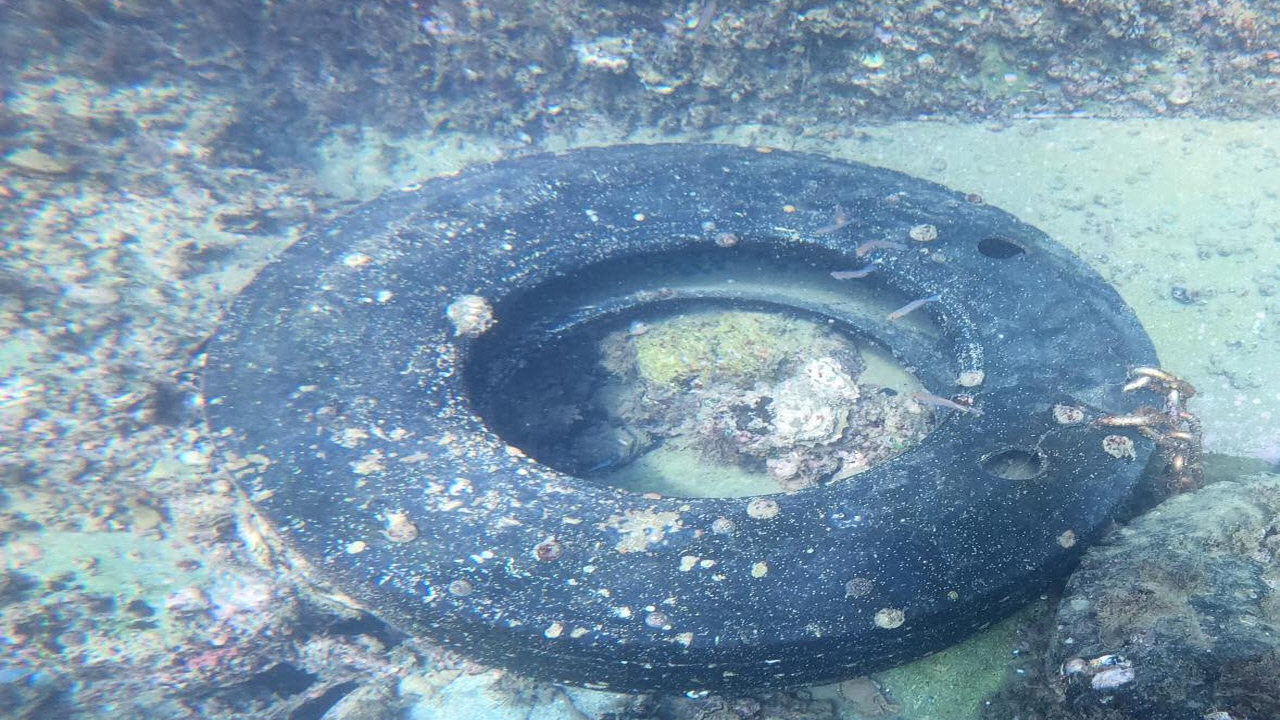tire: (201, 142, 1166, 692)
